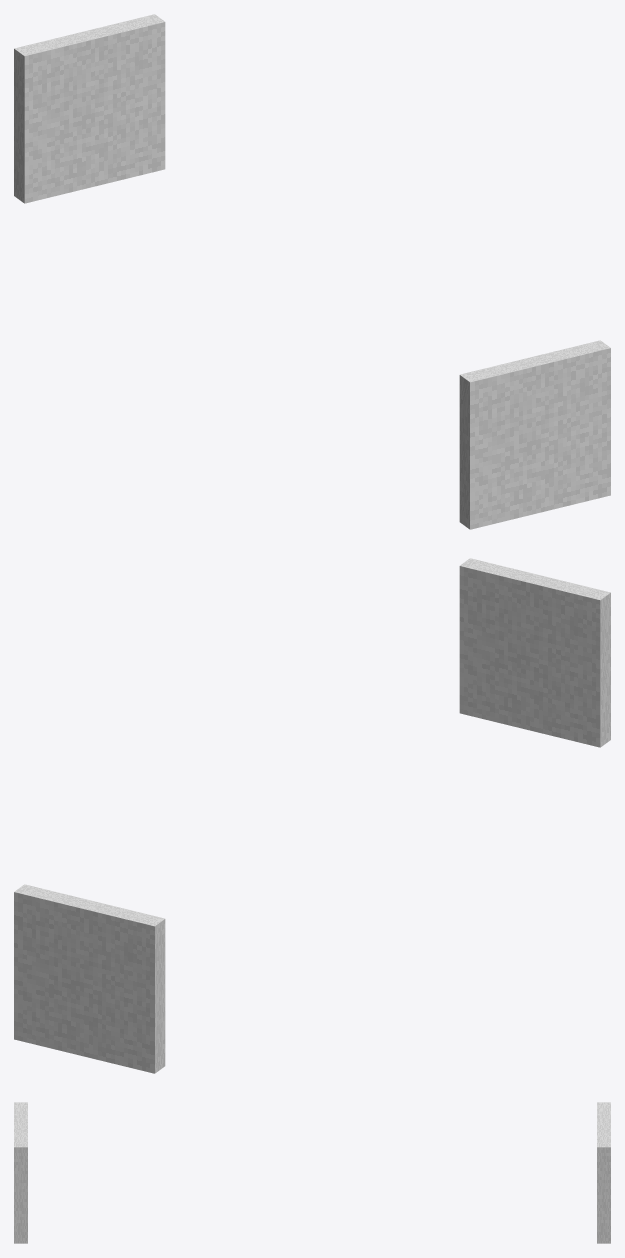
Rendered from revolver4_hole.obj.
3 renders of one model, top to bottom at view 1: azimuth 30°, elevation 25°; view 2: azimuth 150°, elevation 25°; view 3: azimuth 270°, elevation 25°, orthographic. The views are drawn at different scales.
Visible parts, largest first — view 1: part0, part1; view 2: part0, part1; view 3: part0, part1.
Boxes of the visible parts, x1=… form: part0: x1=459, y1=340, x2=610, y2=529; part1: x1=14, y1=14, x2=165, y2=203; part0: x1=459, y1=558, x2=610, y2=747; part1: x1=14, y1=884, x2=165, y2=1073; part0: x1=14, y1=1102, x2=27, y2=1243; part1: x1=597, y1=1102, x2=610, y2=1243.
Size of the model in its own units: 0.0092 by 0.0092 by 0.0516.
Materials: 1 (1 with a texture image).
